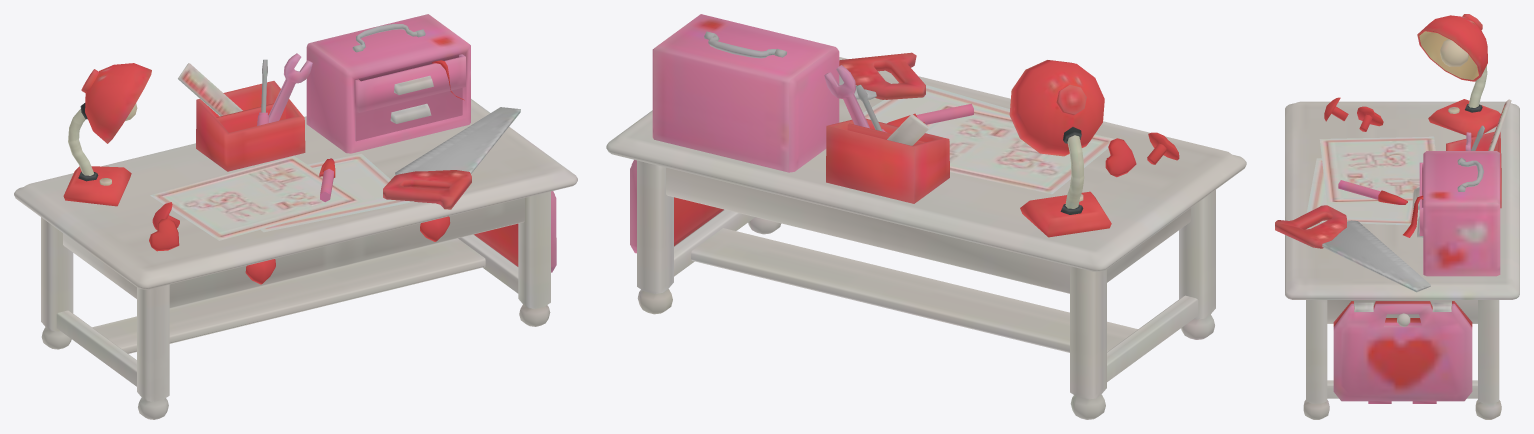
3 renders of one model, left to right at view 1: azimuth 30°, elevation 25°; view 2: azimuth 150°, elevation 25°; view 3: azimuth 270°, elevation 25°, orthographic. The views are drawn at different scales.
Size of the model in its own units: 18.77 by 11.21 by 9.83.
Materials: 1 (1 with a texture image).
